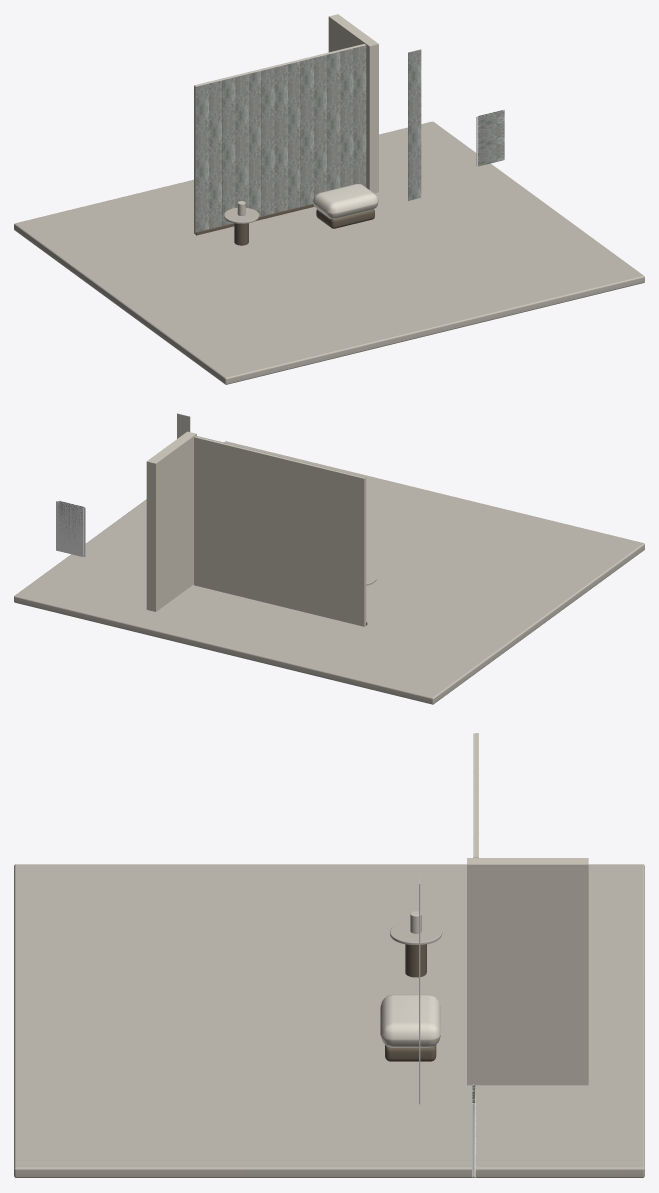
The model's file is panel-studio.glb.
3 renders of one model, top to bottom at view 1: azimuth 30°, elevation 25°; view 2: azimuth 150°, elevation 25°; view 3: azimuth 270°, elevation 25°, orthographic. The views are drawn at different scales.
Visible parts, largest first — view 1: ENV_floor, ENV_return_wall, SAMPLE_FACE, WALL_FACE_06, WALL_FACE_05, WALL_FACE_04, WALL_FACE_12, WALL_FACE_11, WALL_FACE_02, WALL_FACE_00, WALL_FACE_01, WALL_FACE_07 (+8 smaller); view 2: ENV_floor, ENV_backing, ENV_return_wall, DETAIL_BASE, DETAIL_CUTAWAY; view 3: ENV_floor, ENV_return_wall, PRP_bench_cushion, PRP_table_top, PRP_bench_base, PRP_table_stem.
Part boxes in pixels (x1,y1,x2,y2): ENV_floor: (14, 121, 644, 384); ENV_return_wall: (328, 14, 378, 193); SAMPLE_FACE: (408, 49, 421, 200); WALL_FACE_06: (274, 64, 287, 212); WALL_FACE_05: (261, 67, 274, 215); WALL_FACE_04: (248, 71, 261, 216); WALL_FACE_12: (353, 45, 366, 187); WALL_FACE_11: (340, 48, 353, 187); WALL_FACE_02: (222, 77, 235, 225); WALL_FACE_00: (196, 83, 208, 232); WALL_FACE_01: (209, 80, 221, 228); WALL_FACE_07: (288, 61, 300, 209); ENV_floor: (14, 441, 644, 704); ENV_backing: (194, 436, 365, 626); ENV_return_wall: (146, 431, 196, 611); DETAIL_BASE: (56, 500, 85, 556); DETAIL_CUTAWAY: (58, 501, 85, 556); ENV_floor: (14, 864, 644, 1177); ENV_return_wall: (467, 858, 588, 1085); PRP_bench_cushion: (380, 994, 440, 1047); PRP_table_top: (390, 921, 442, 945); PRP_bench_base: (385, 1045, 436, 1061); PRP_table_stem: (405, 944, 426, 977).
Bounding box in the file's own units: 8.27 × 2.83 × 7.
9 materials, 1 textured.
